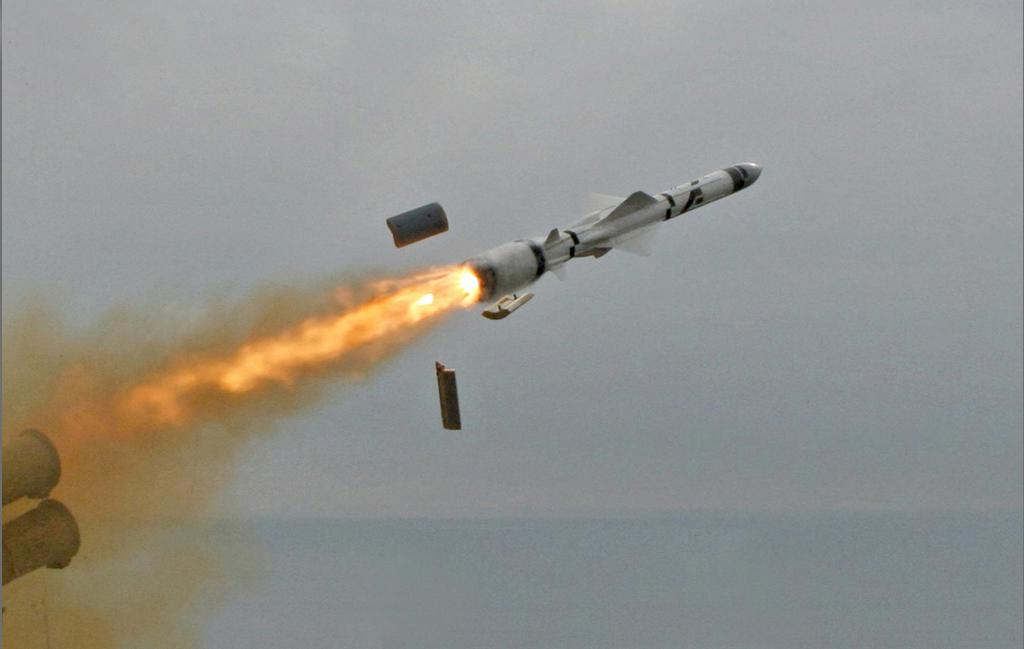Missile: (72, 135, 802, 474)
